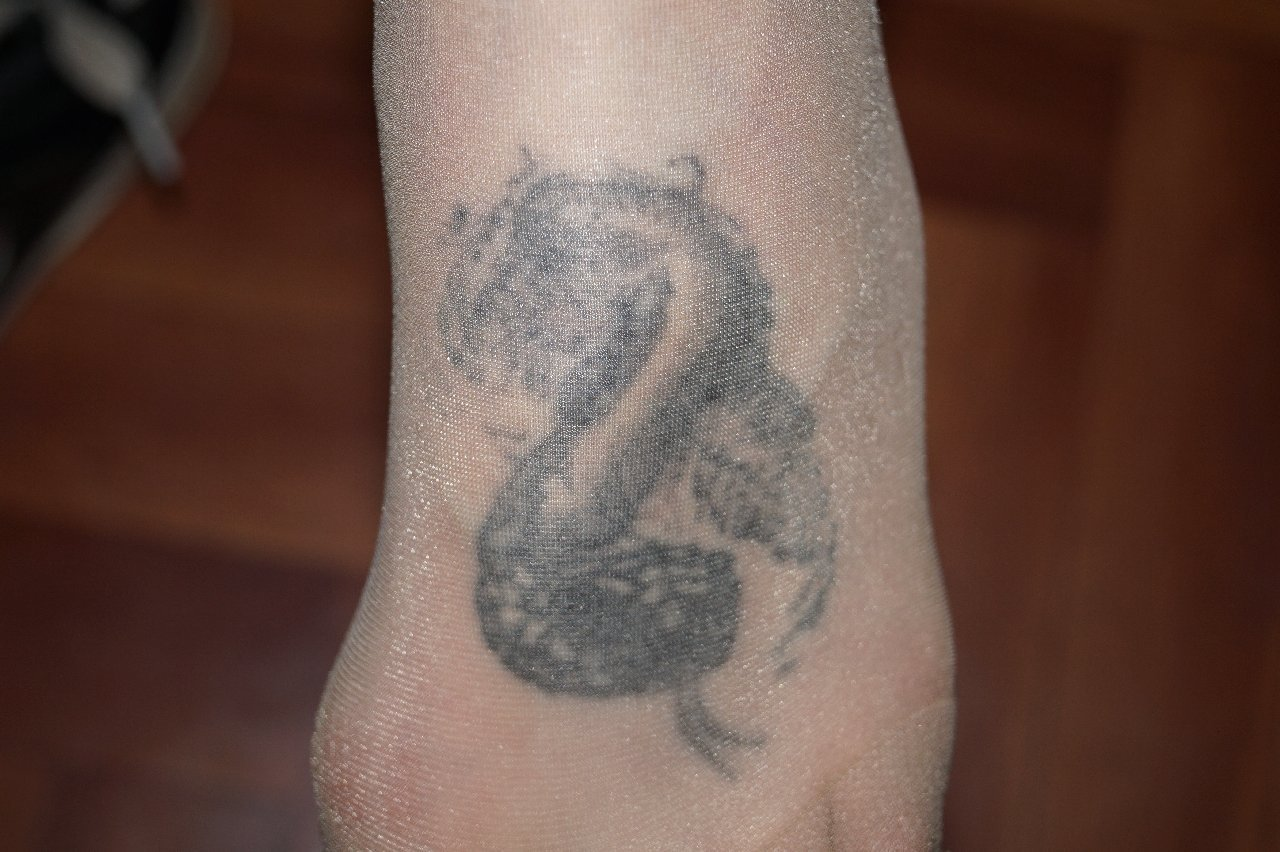tatu7_zmeya: (429, 127, 892, 795)
